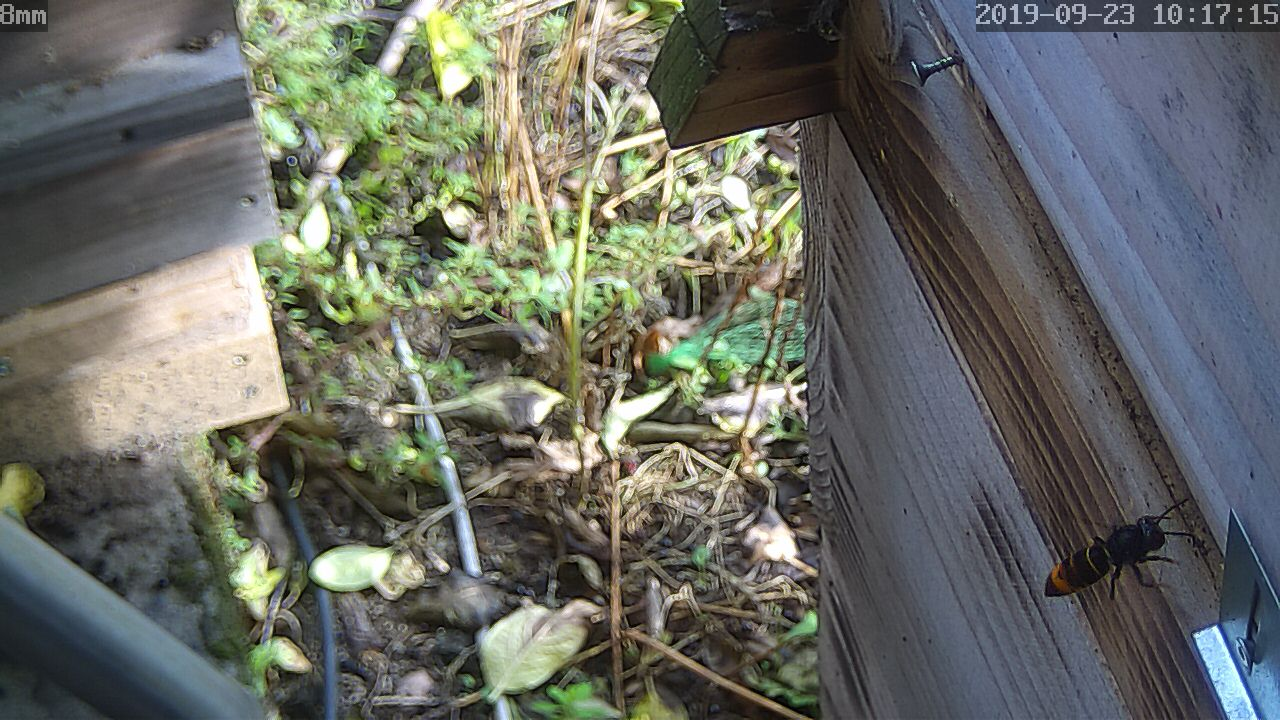hornet: (1036, 501, 1178, 610)
